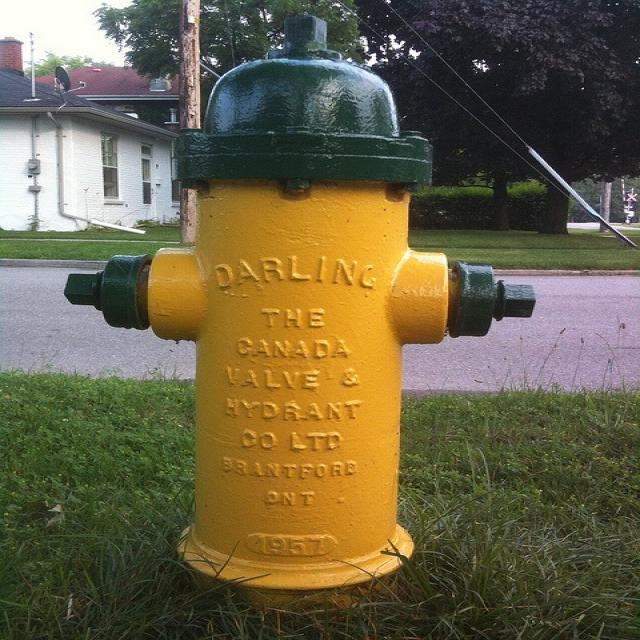fire_hydrant: (63, 12, 540, 611)
pole: (162, 2, 202, 243)
